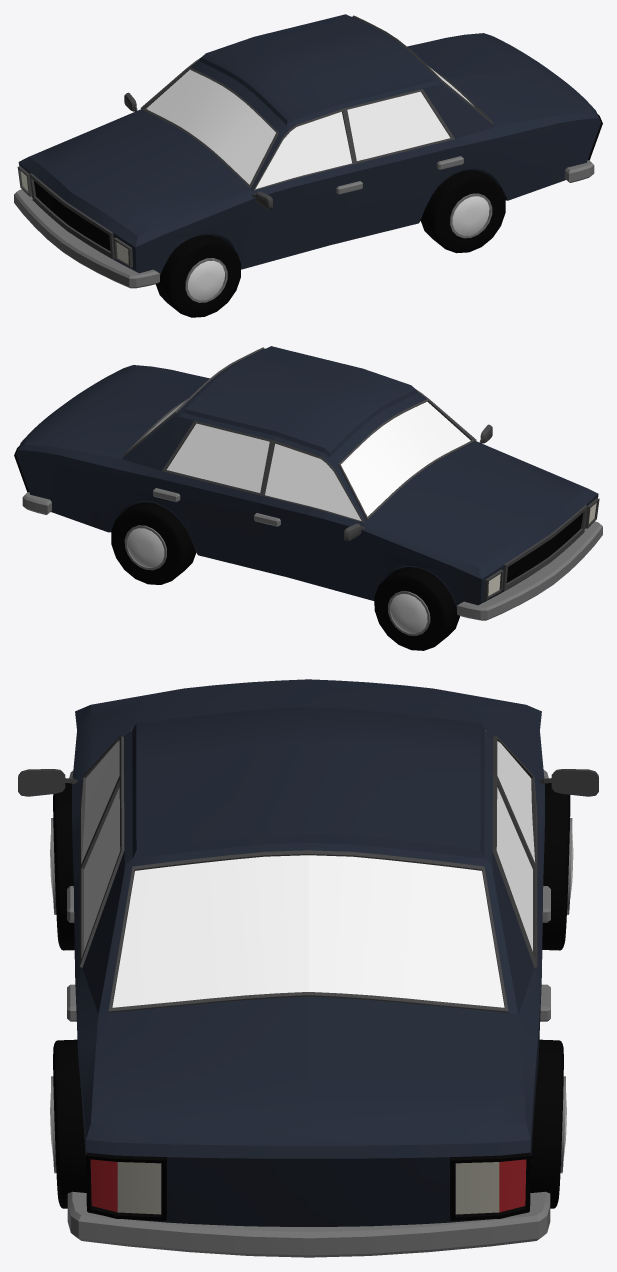
The model's file is Car-By-Johan.fbx.
3 views of the same model, one above another, from view 1: azimuth 30°, elevation 25°; view 2: azimuth 150°, elevation 25°; view 3: azimuth 270°, elevation 25° (orthographic). The views are drawn at different scales.
Visible parts, largest first — view 1: Cube; view 2: Cube; view 3: Cube.
Part boxes in pixels (bbox=[...]): Cube: bbox=[14, 14, 602, 317]; Cube: bbox=[14, 346, 602, 650]; Cube: bbox=[18, 679, 598, 1257].
Bounding box in the file's own units: 6167 × 2082 × 3140.
